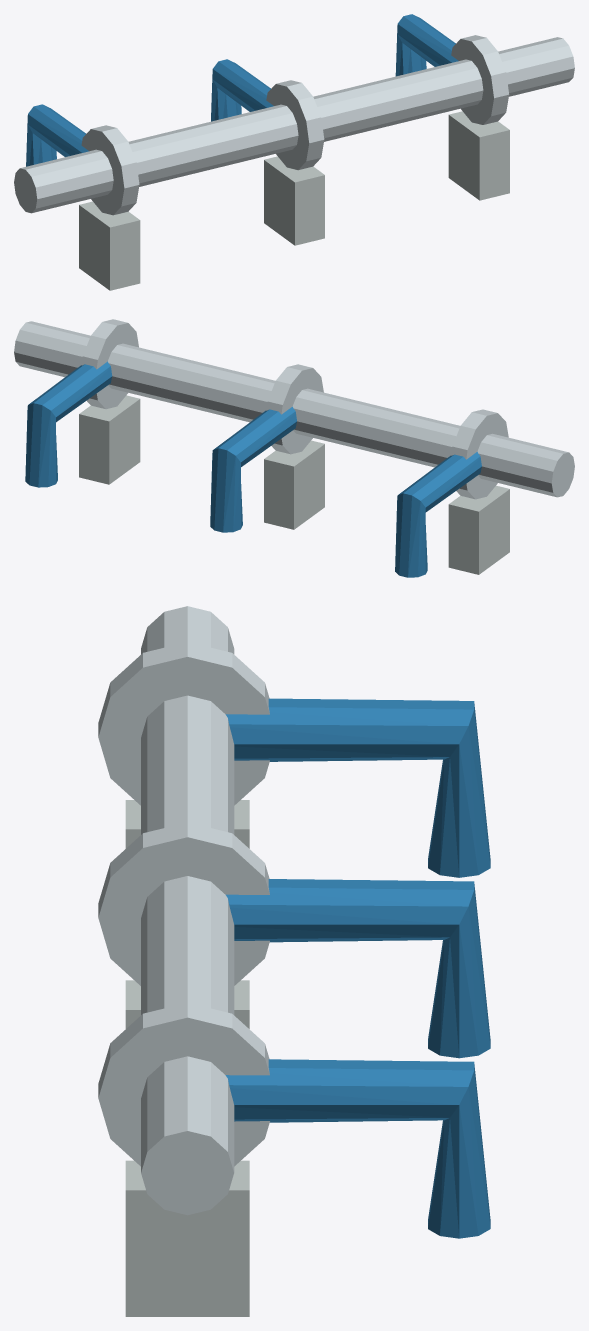
The model's file is AQUA-017.glb.
The picture shows the model from 3 angles, top to bottom: view 1: azimuth 30°, elevation 25°; view 2: azimuth 150°, elevation 25°; view 3: azimuth 270°, elevation 25°; orthographic projection. The views are drawn at different scales.
Visible parts, largest first — view 1: AQUA-017; view 2: AQUA-017; view 3: AQUA-017.
Part boxes in pixels (x1,y1,x2,y2): AQUA-017: (14, 14, 574, 290); AQUA-017: (14, 319, 574, 577); AQUA-017: (98, 606, 490, 1316).
Bounding box in the file's own units: 3.2 × 0.83 × 1.01.
